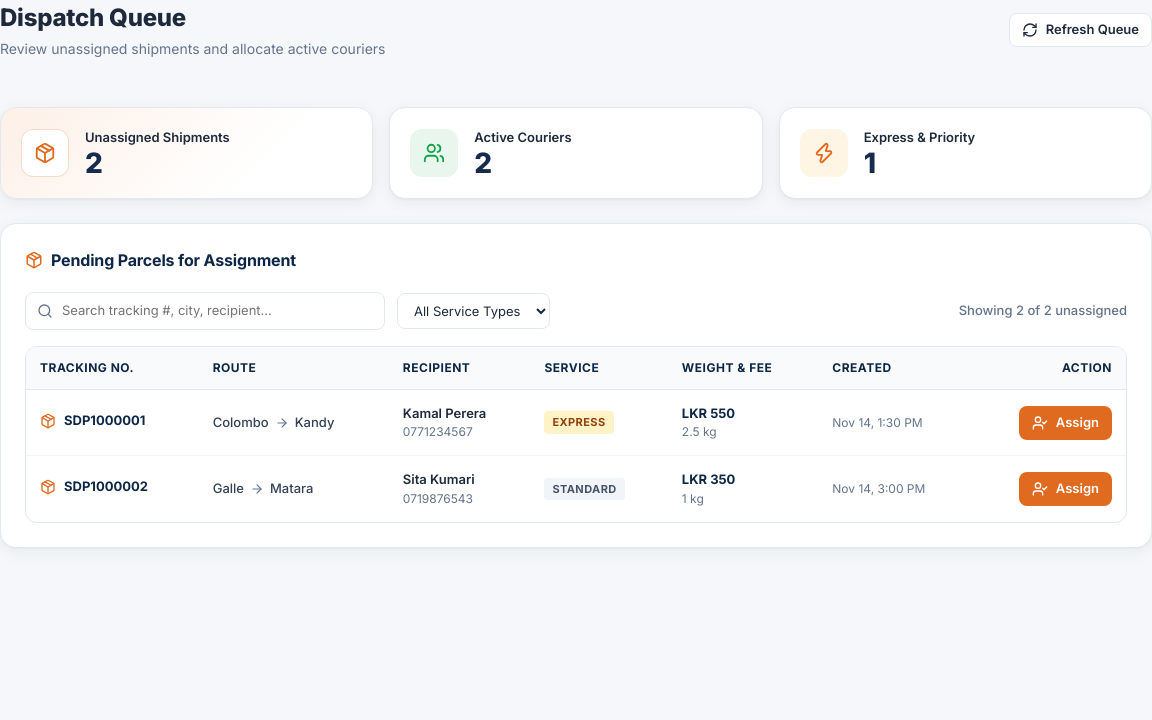
Test: Dispatch Management Page & Assignment Modal - Component Tests › 7. Validates that a courier must be selected before submission
The image size is (1152, 720).
Check: the text "SDP1000001" is shown, box [40,411,145,430]
Click the button "Assign" in the row of "SDP1000001" at point(1065, 422), box [1019,406,1112,440]
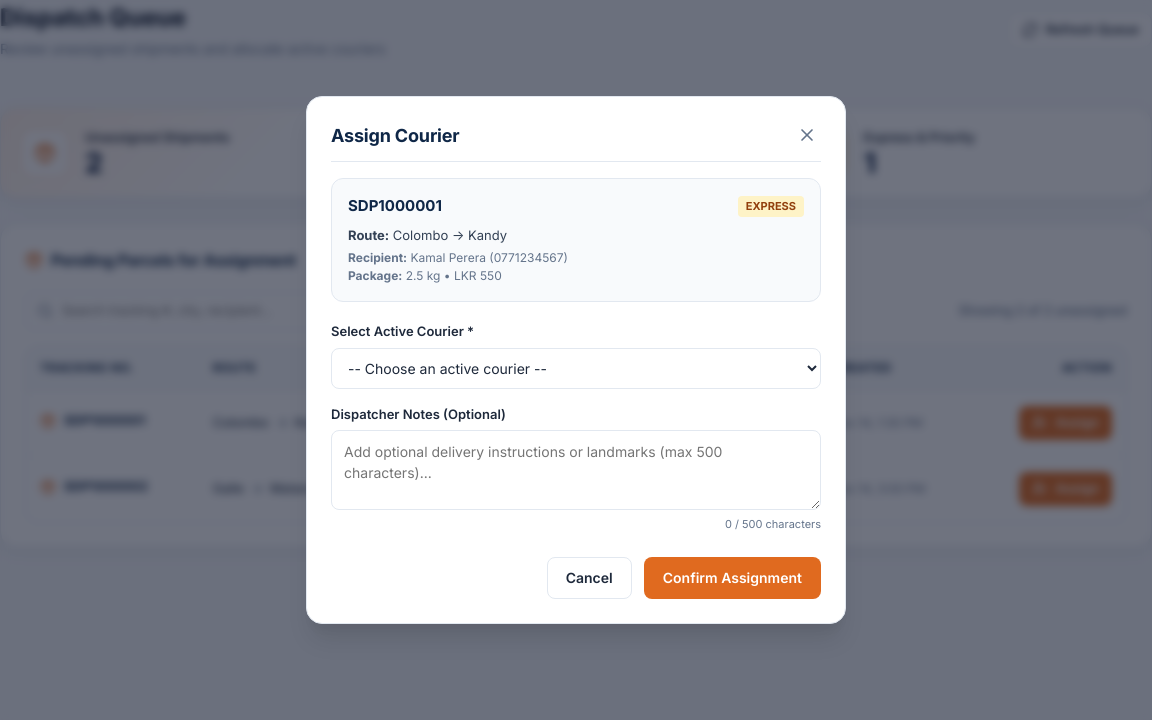
Click submit without selecting courier
Click the button "Confirm Assignment" at point(732, 578), box [644,557,821,599]
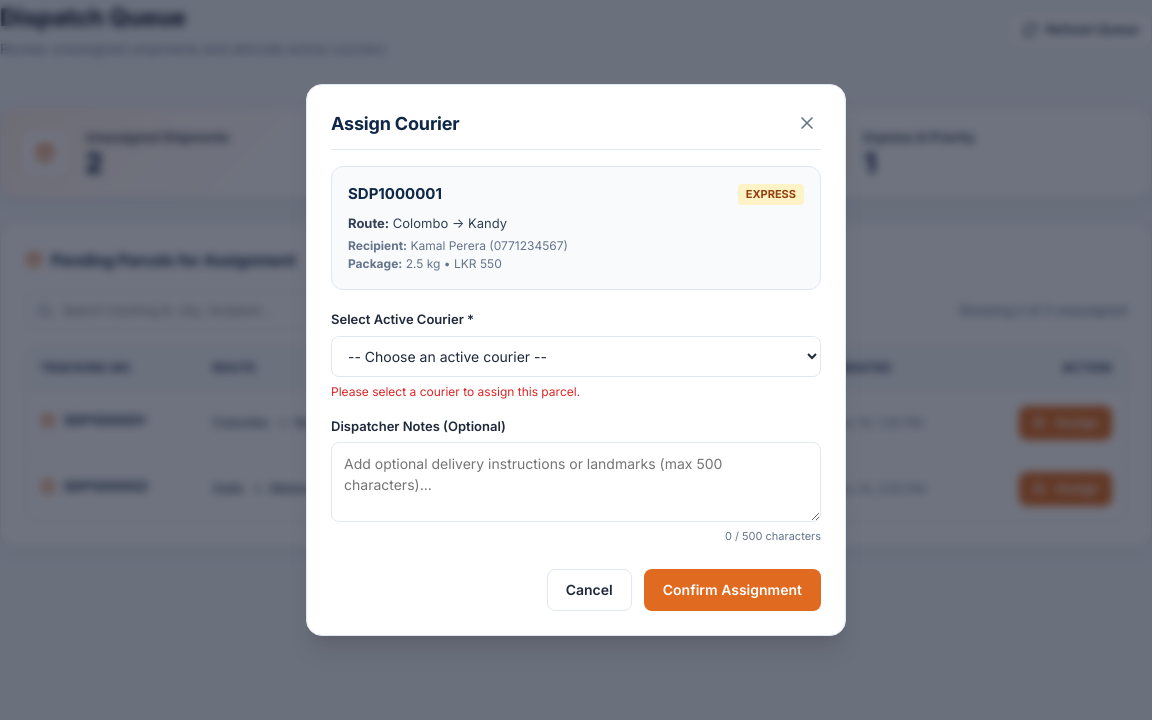
Check: the text "Please select a courier to assign this parcel." is shown, box [331,384,580,399]
